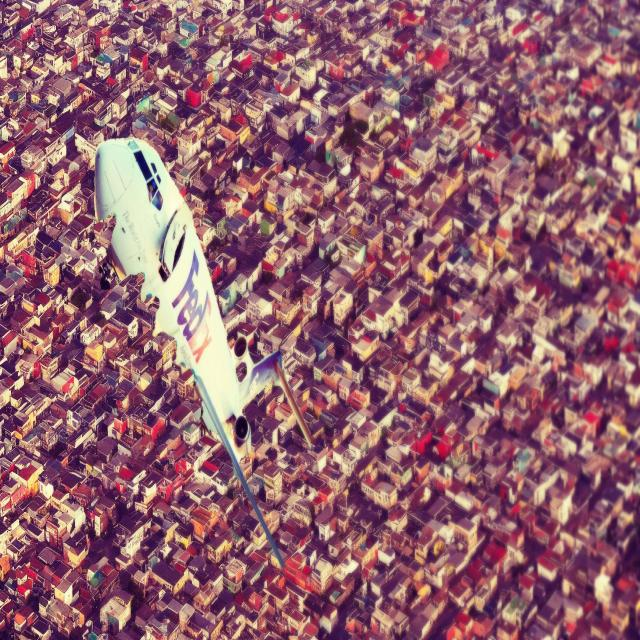airplane: (93, 135, 314, 571)
